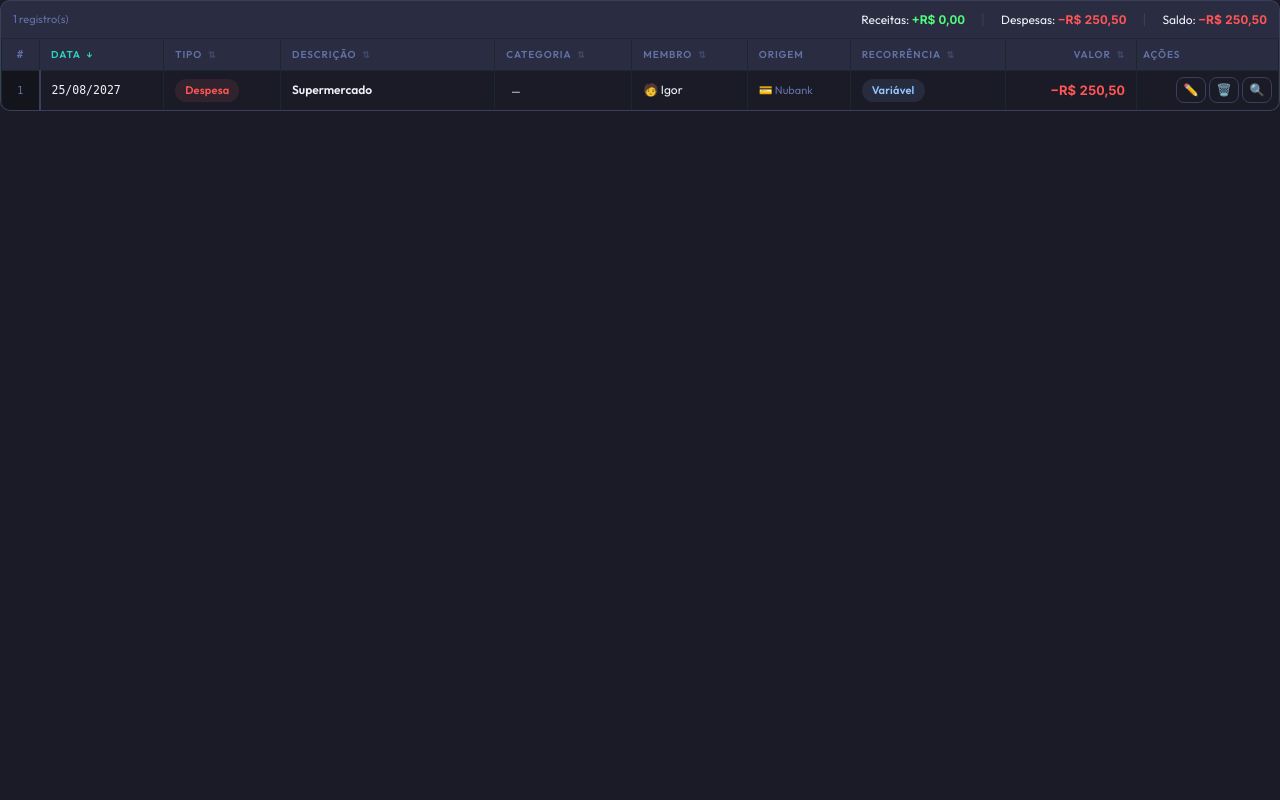
Test: TxTable — read-only details view › has no save button in the details modal
Click the button titled "Detalhes" at (1257, 90), box [1242,77,1272,103]
(page scrolled)
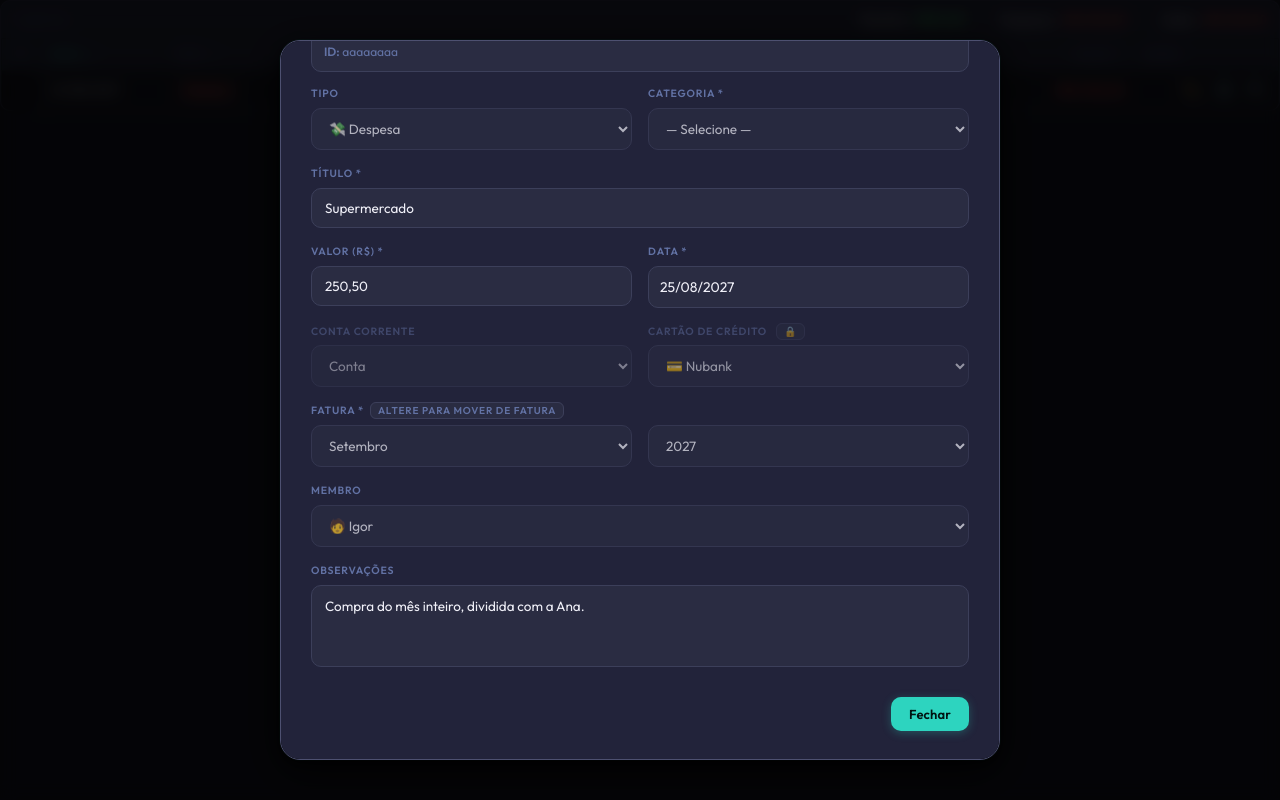
Expected: the button "Fechar" is shown, [891,697,969,731]
